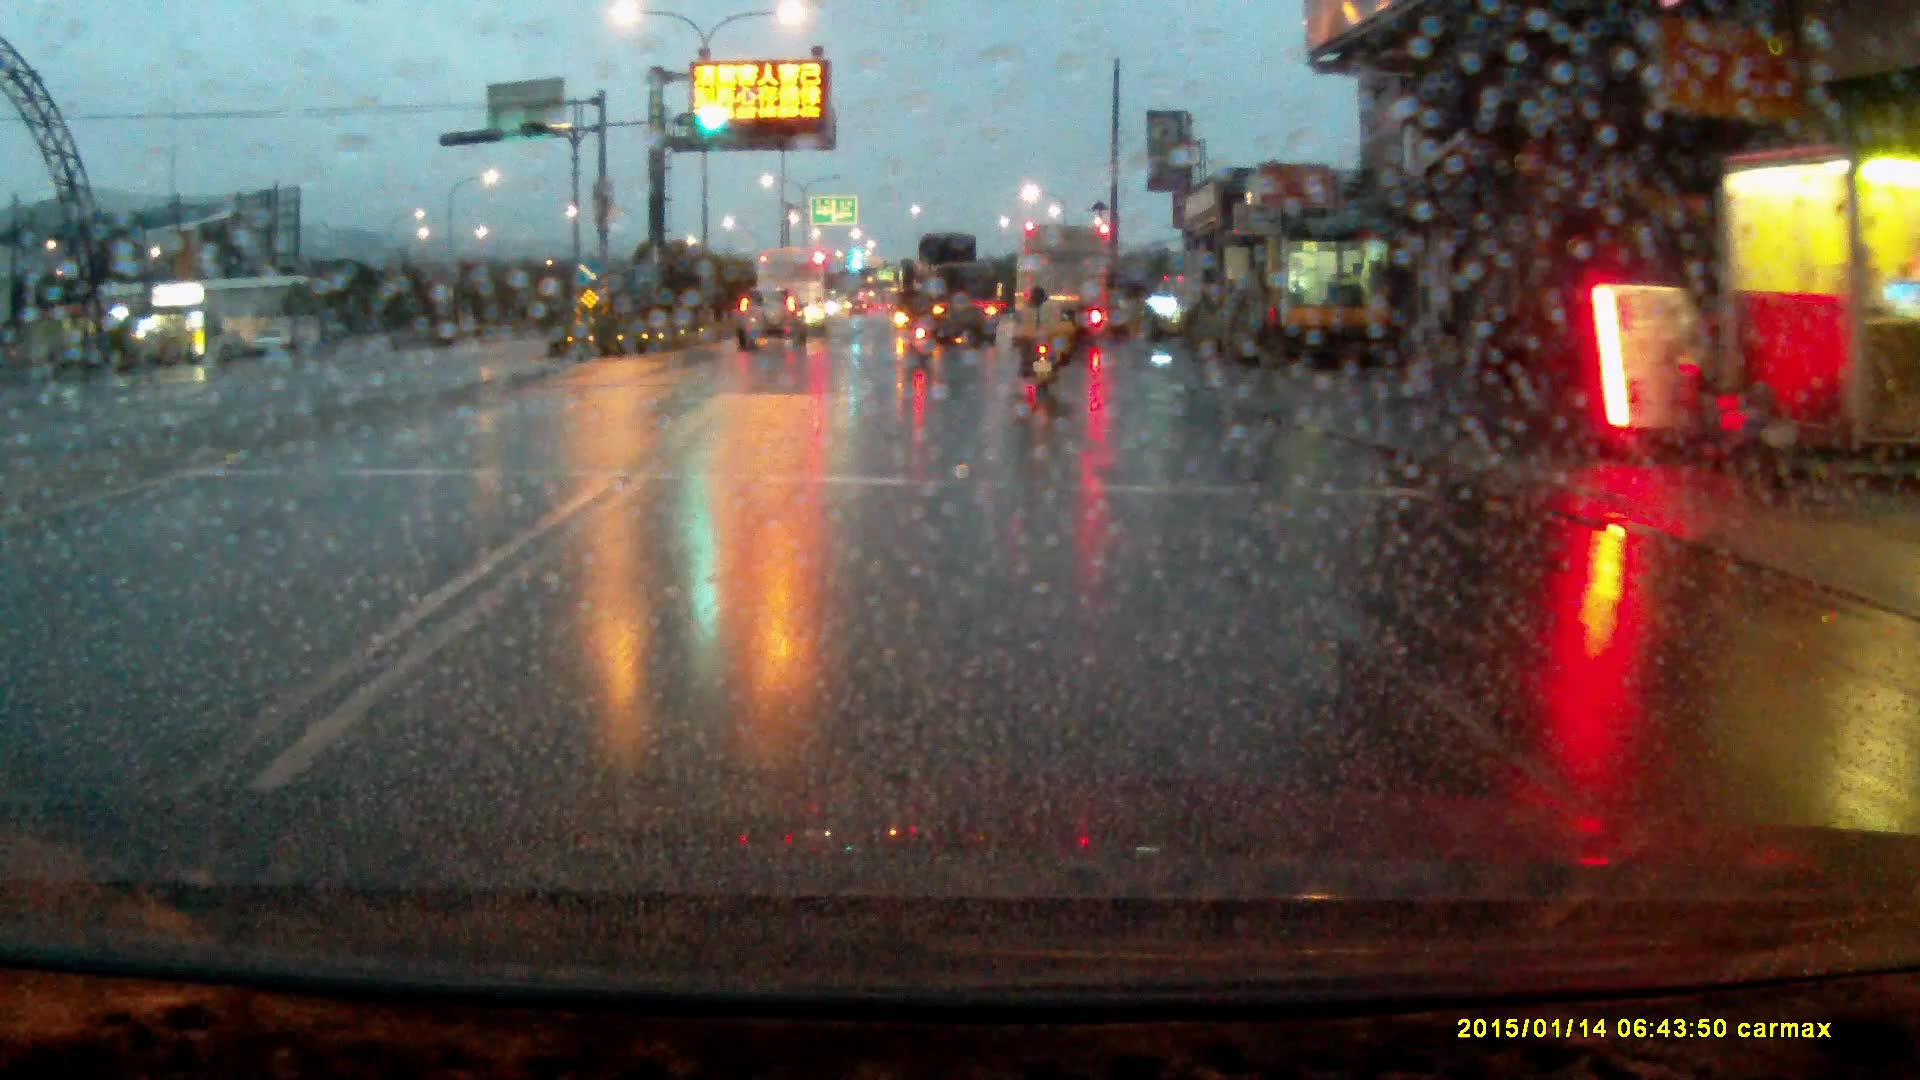rider: (1018, 287, 1069, 405), (902, 281, 939, 368)
vehicle: (1016, 220, 1116, 345), (906, 233, 1000, 347), (757, 246, 830, 334), (737, 288, 810, 354)
